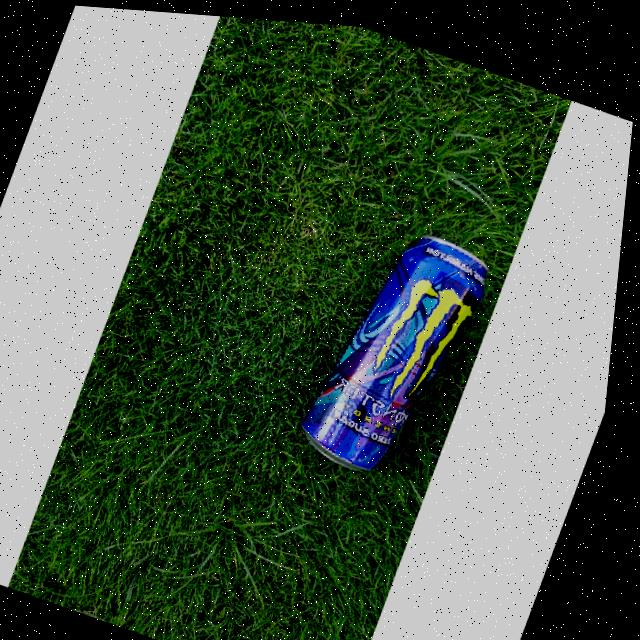Monster LH44: (283, 191, 513, 506)
